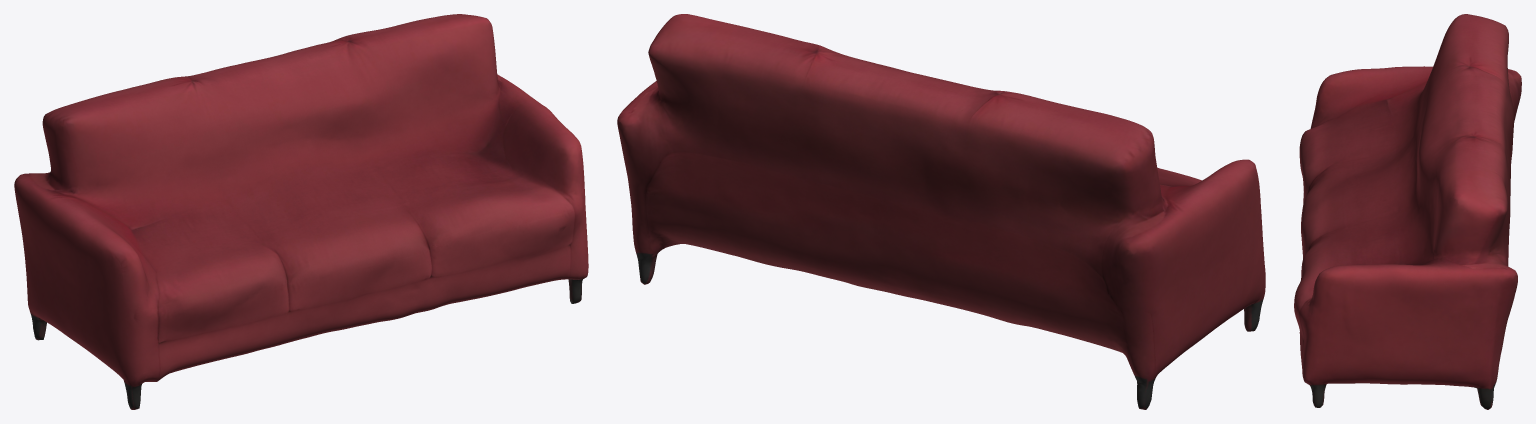
Rendered from sofa2.glb.
The picture shows the model from 3 angles, left to right: view 1: azimuth 30°, elevation 25°; view 2: azimuth 150°, elevation 25°; view 3: azimuth 270°, elevation 25°; orthographic projection. The views are drawn at different scales.
Bounding box in the file's own units: 1.2 × 0.5555 × 0.5448.
Materials: 1 (1 with a texture image).
